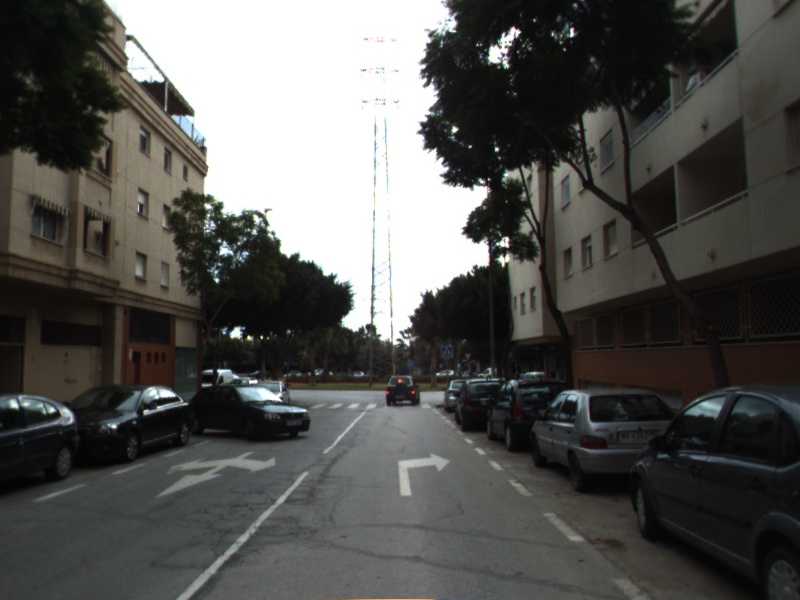RIGHT: (396, 450, 452, 498)
